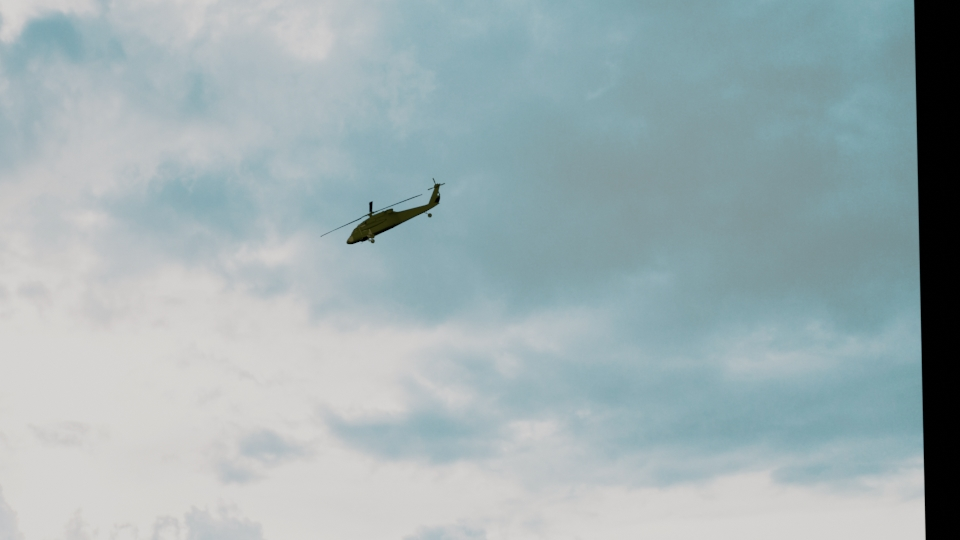heli: (343, 180, 445, 245)
